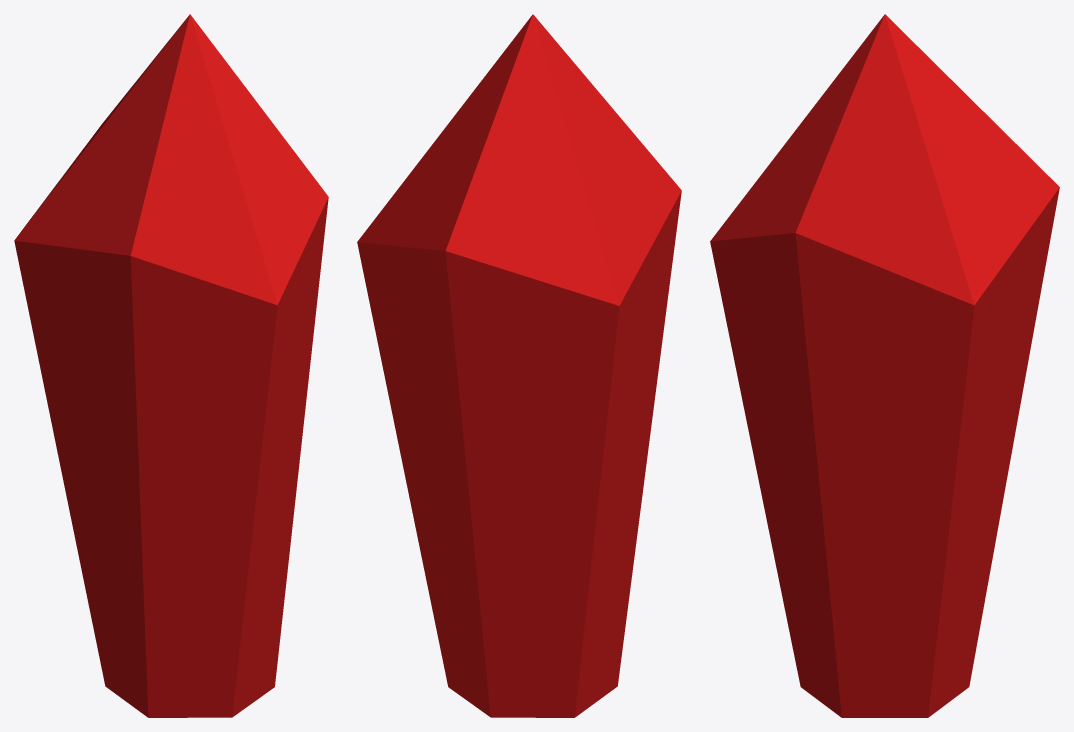
File: Crystal-A02.fbx
The picture shows the model from 3 angles, left to right: view 1: azimuth 30°, elevation 25°; view 2: azimuth 150°, elevation 25°; view 3: azimuth 270°, elevation 25°; orthographic projection.
Parts seen in each view (by area): view 1: Crystal-A02; view 2: Crystal-A02; view 3: Crystal-A02.
Boxes of the visible parts, box(x1,y1,x2,y2) form: Crystal-A02: box(14, 14, 328, 717); Crystal-A02: box(357, 14, 681, 717); Crystal-A02: box(710, 14, 1059, 717).
Size of the model in its own units: 32.74 by 80.23 by 37.79.
